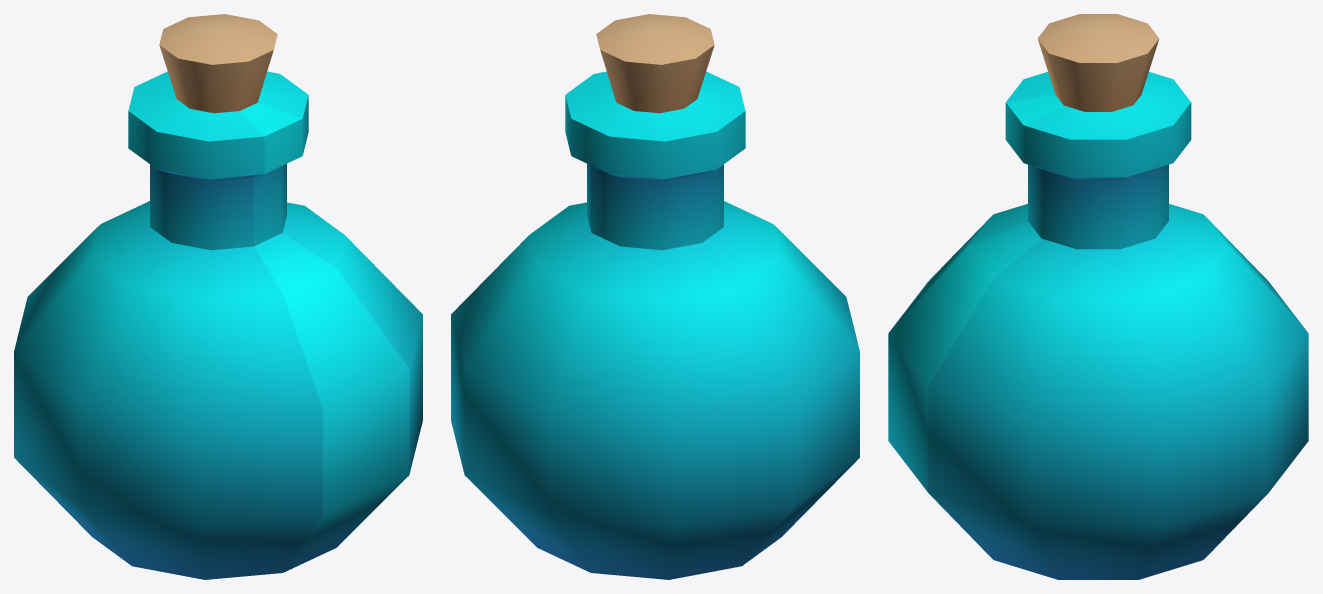
Rendered from potion_medium_blue.obj.
The picture shows the model from 3 angles, left to right: view 1: azimuth 30°, elevation 25°; view 2: azimuth 150°, elevation 25°; view 3: azimuth 270°, elevation 25°; orthographic projection.
Parts seen in each view (by area): view 1: potion_medium_blue; view 2: potion_medium_blue; view 3: potion_medium_blue.
Part boxes in pixels (<box>): potion_medium_blue: <box>14,14,422,579</box>; potion_medium_blue: <box>451,14,859,579</box>; potion_medium_blue: <box>888,14,1308,579</box>.
Size of the model in its own units: 0.3429 by 0.5058 by 0.3605.
1 material, 1 textured.
